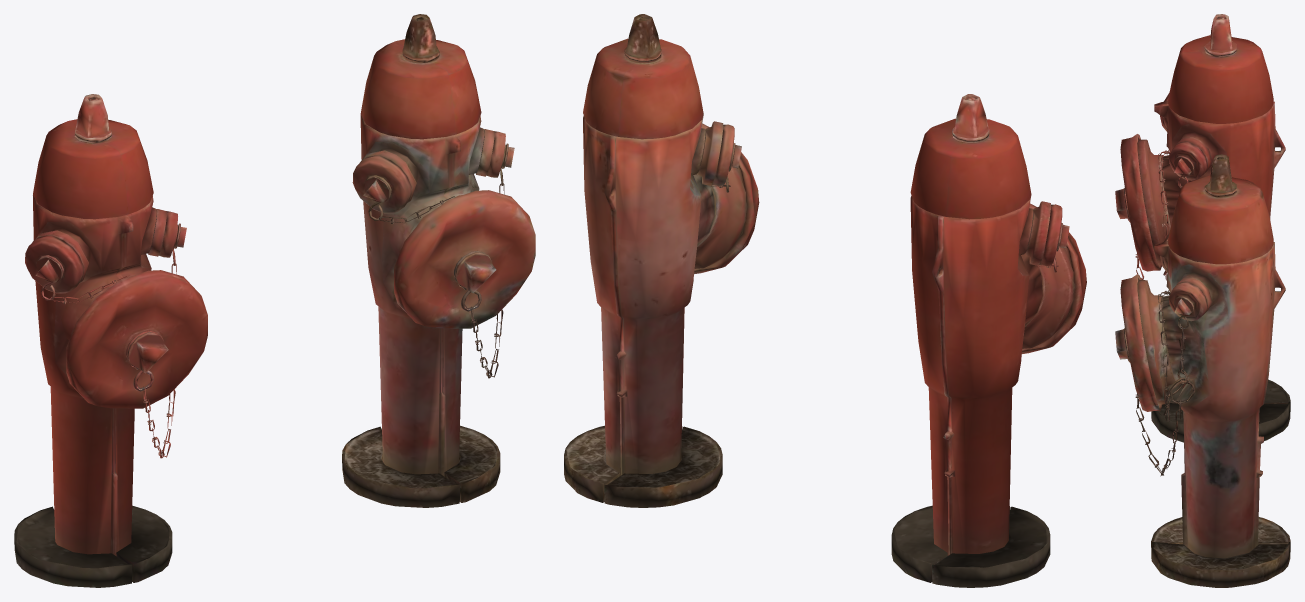
File: fire_hydrant.glb
The picture shows the model from 3 angles, left to right: view 1: azimuth 30°, elevation 25°; view 2: azimuth 150°, elevation 25°; view 3: azimuth 270°, elevation 25°; orthographic projection. The views are drawn at different scales.
Visible parts, largest first — view 1: fire_hydrant_aged, fire_hydrant; view 2: fire_hydrant, fire_hydrant_aged; view 3: fire_hydrant_aged, fire_hydrant.
Part boxes in pixels (bbox=[...]): fire_hydrant_aged: bbox=[342, 14, 535, 507]; fire_hydrant: bbox=[14, 94, 207, 587]; fire_hydrant: bbox=[891, 94, 1086, 587]; fire_hydrant_aged: bbox=[564, 14, 759, 507]; fire_hydrant_aged: bbox=[1115, 154, 1290, 587]; fire_hydrant: bbox=[1115, 14, 1290, 442].
Bounding box in the file's own units: 0.8746 × 0.7994 × 0.3173.
2 materials, 2 textured.
